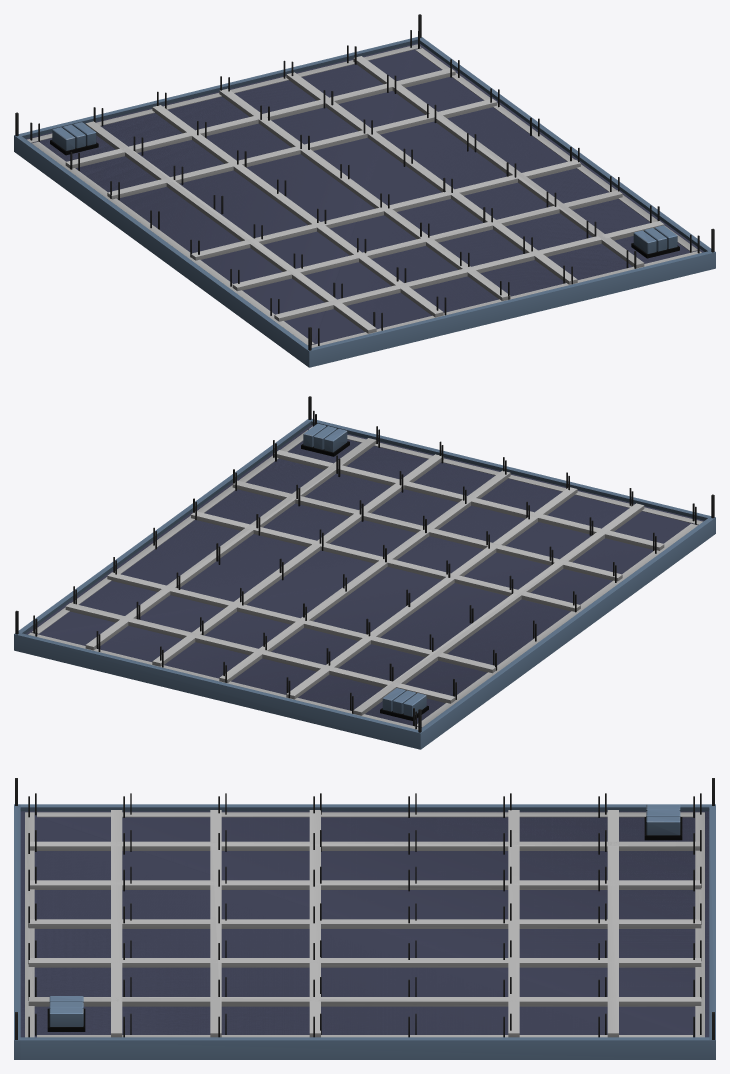
Rendered from veyran_shipyard_foundation.glb.
The picture shows the model from 3 angles, top to bottom: view 1: azimuth 30°, elevation 25°; view 2: azimuth 150°, elevation 25°; view 3: azimuth 270°, elevation 25°; orthographic projection. The views are drawn at different scales.
Parts seen in each view (by area): view 1: body (×3); view 2: body (×3); view 3: body (×3).
Boxes of the visible parts, x1,y1,x2,y2 form: body (×3): (14, 14, 715, 367); body (×3): (14, 396, 715, 749); body (×3): (14, 778, 715, 1059).
Bounding box in the file's own units: 14.78 × 1.35 × 18.58.
